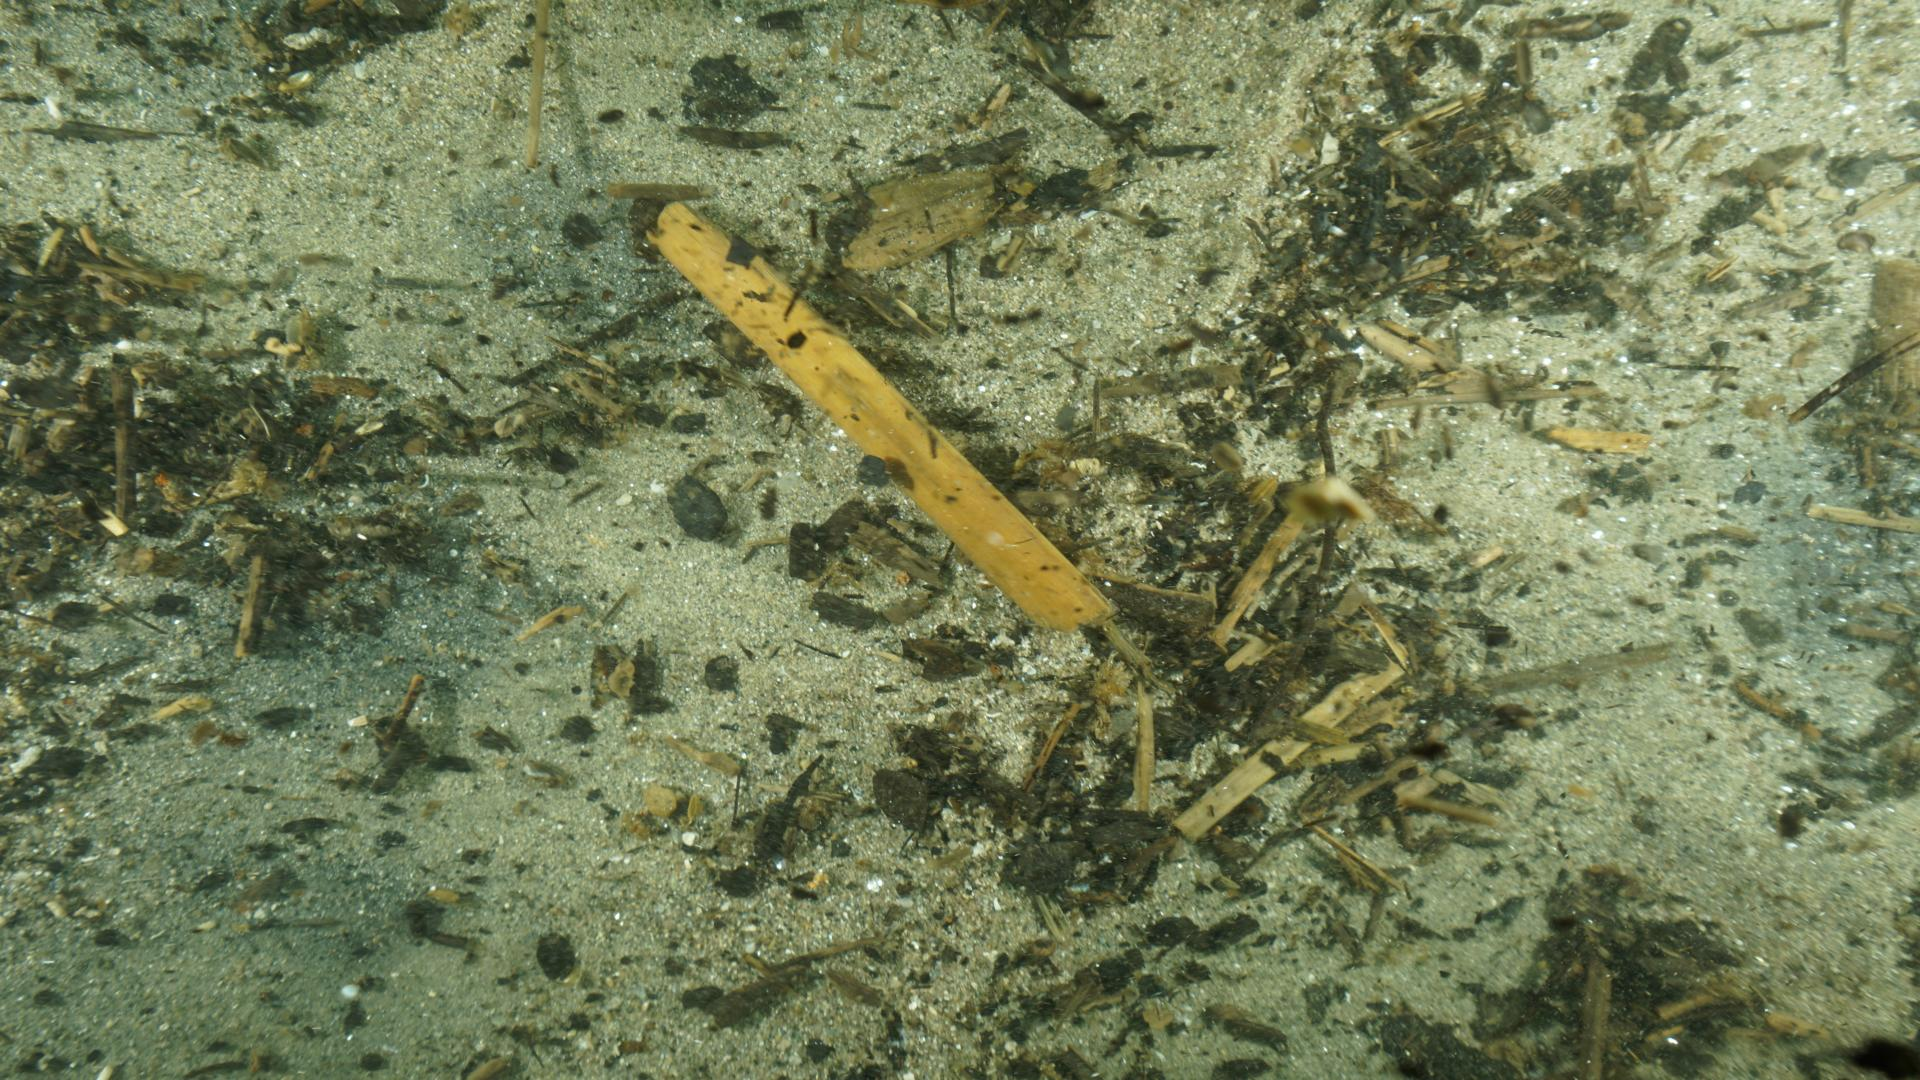wood: (640, 194, 1118, 636)
